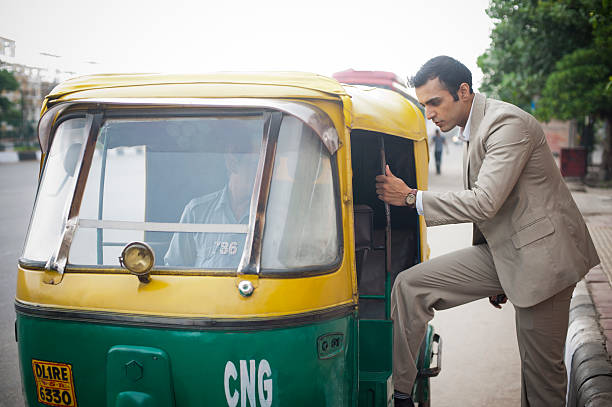threewheel: (13, 72, 432, 407)
